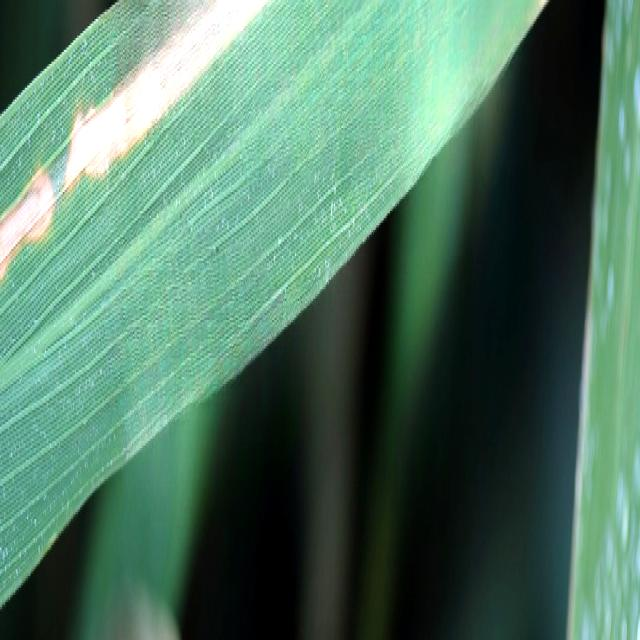BLB: (63, 0, 274, 196)
